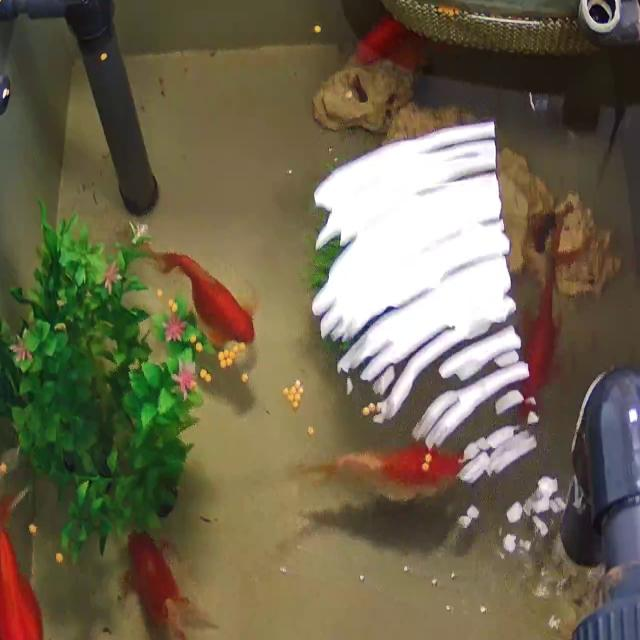fish: (142, 247, 256, 348), (121, 527, 219, 640), (0, 473, 65, 640), (300, 441, 460, 496), (516, 238, 565, 410), (353, 13, 422, 69)
